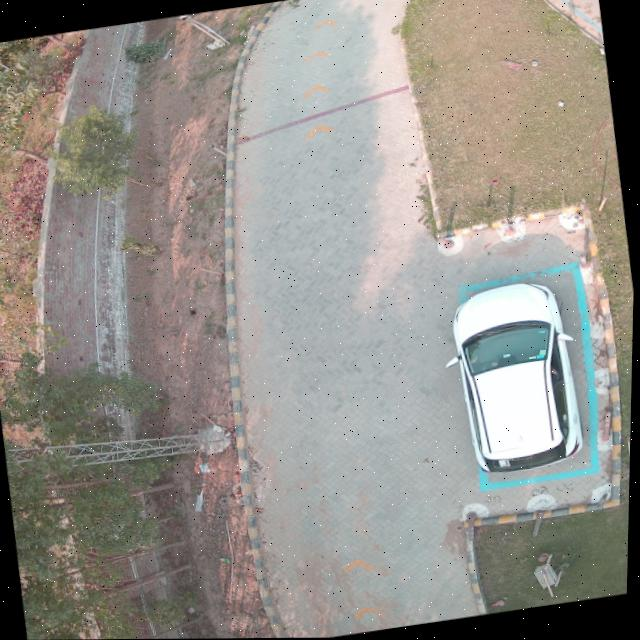car: (451, 283, 585, 473)
